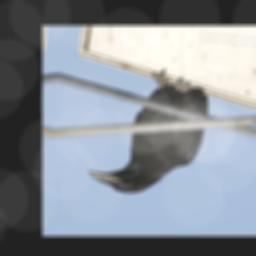Crow: (85, 64, 215, 200)
